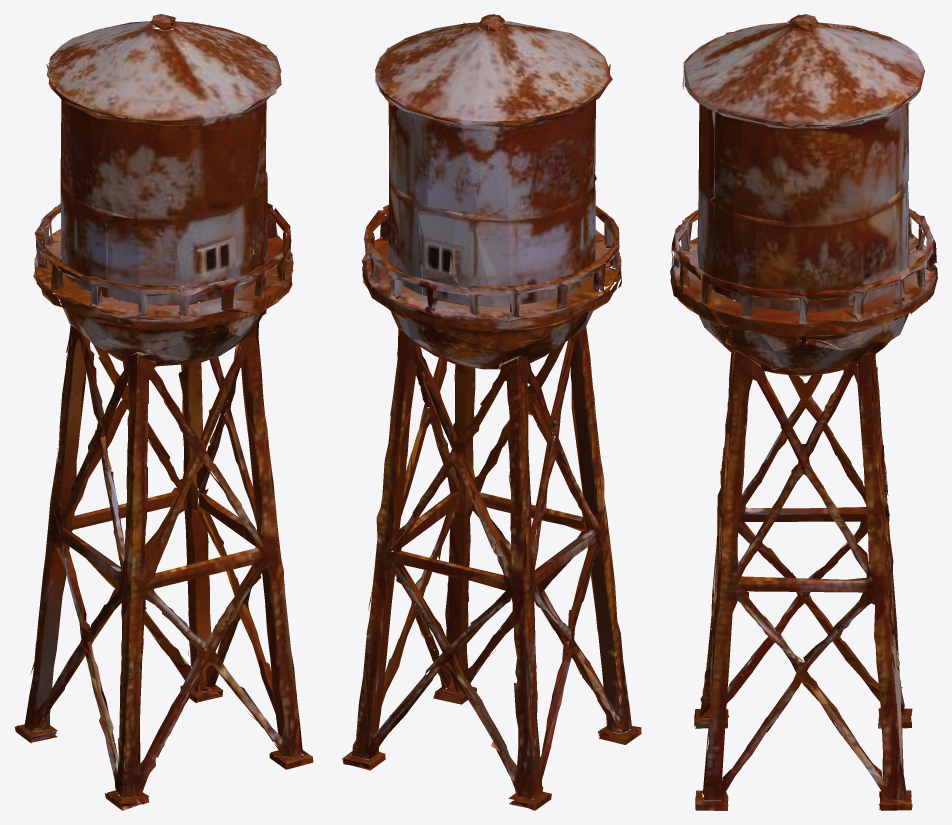
Rendered from water_tower.glb.
3 renders of one model, left to right at view 1: azimuth 30°, elevation 25°; view 2: azimuth 150°, elevation 25°; view 3: azimuth 270°, elevation 25°, orthographic.
Visible parts, largest first — view 1: obj.obj; view 2: obj.obj; view 3: obj.obj.
Part boxes in pixels (x1=…): obj.obj: x1=14, y1=14, x2=313, y2=810; obj.obj: x1=342, y1=14, x2=641, y2=810; obj.obj: x1=670, y1=14, x2=937, y2=810.
Bounding box in the file's own units: 7.15 × 22 × 7.17.
1 material, 1 textured.
